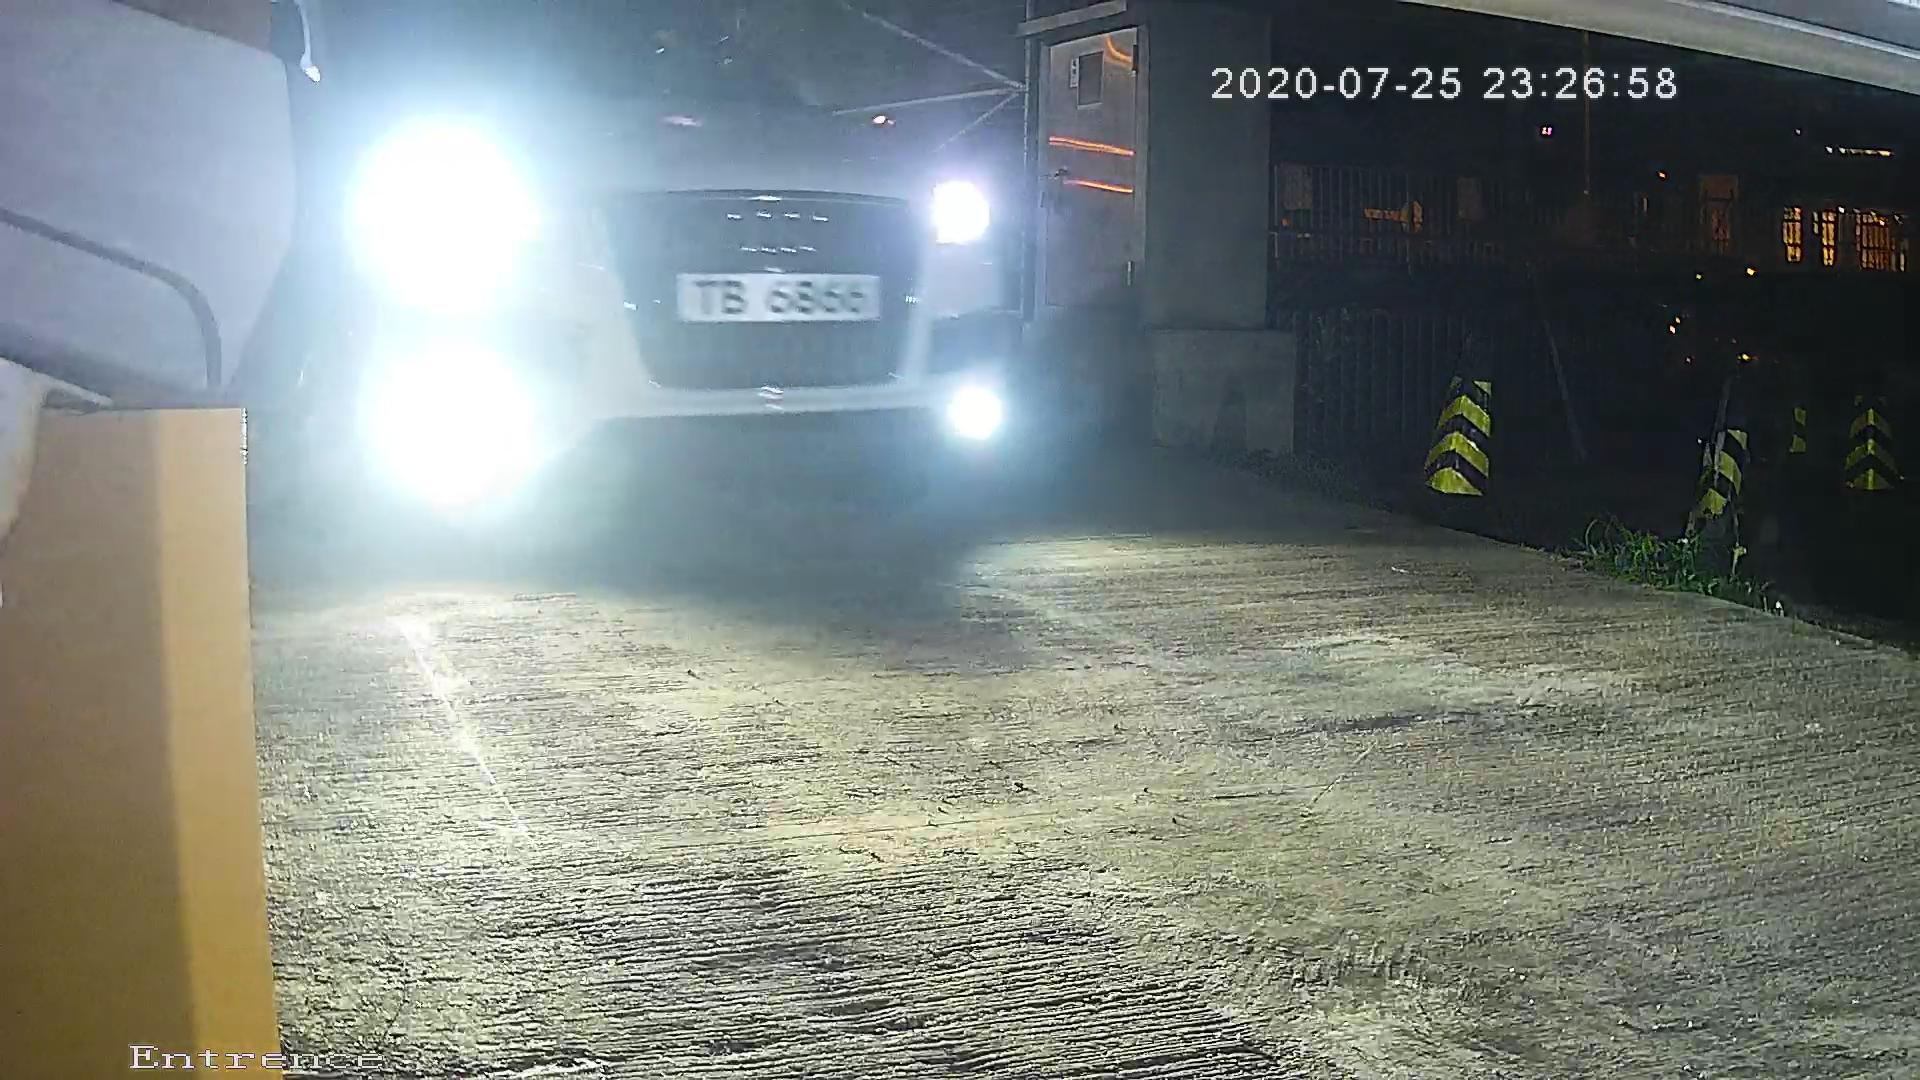License Plate: (646, 251, 920, 344)
